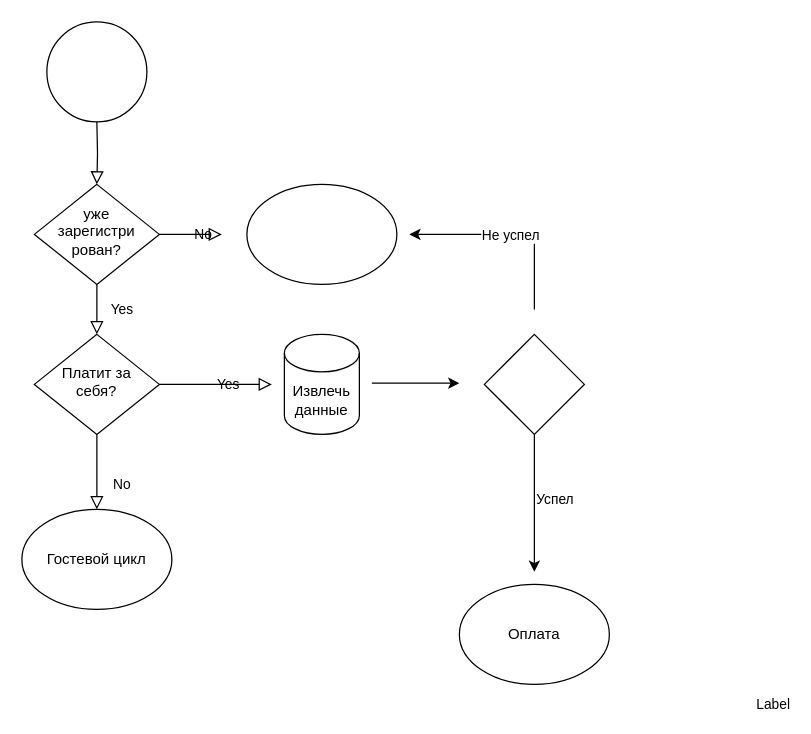
Image size: 811x734. Some labels were removed from this diagram. The centre of each missing label's shape, as x and y in pixels:
Таймер ввода: the point at 533,383
Цикл регистрации: the point at 321,233
